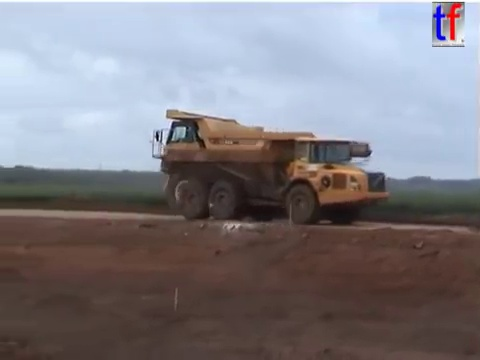truck: (160, 134, 393, 226), (147, 106, 334, 218)
